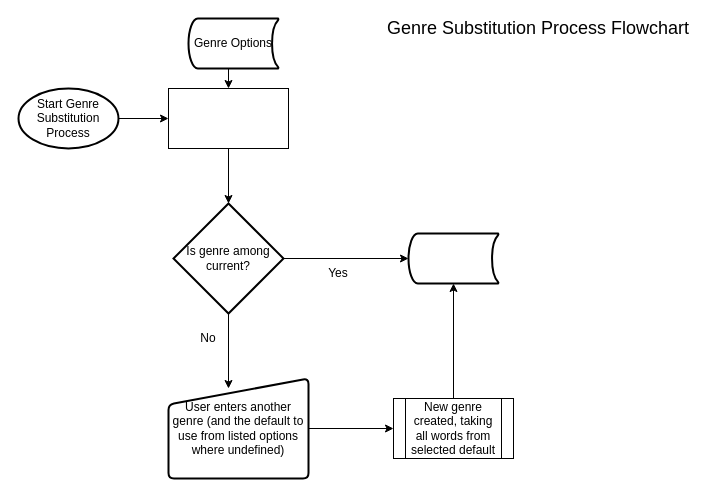
The diagram is 715 pixels wide and 496 high, and some of its shapes have lost their labels. The box of each missing label's shape, as (x1, y1, x2, y2) in pixels:
Retrieve current selected genre and genre options: (168, 88, 288, 148)
Store genre choice: (407, 232, 499, 284)
